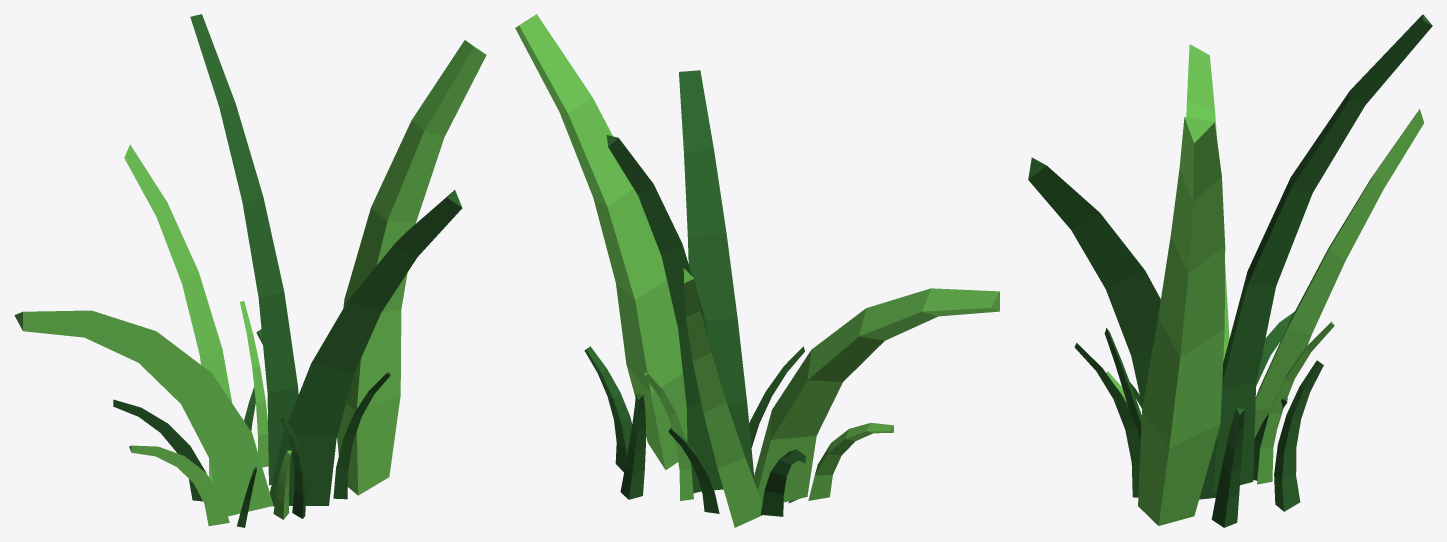
The model's file is Cesped2.fbx.
3 renders of one model, left to right at view 1: azimuth 30°, elevation 25°; view 2: azimuth 150°, elevation 25°; view 3: azimuth 270°, elevation 25°, orthographic. The views are drawn at different scales.
Visible parts, largest first — view 1: Cesped1; view 2: Cesped1; view 3: Cesped1.
Part boxes in pixels (x1=…): Cesped1: x1=14, y1=14, x2=486, y2=527; Cesped1: x1=515, y1=14, x2=999, y2=527; Cesped1: x1=1028, y1=14, x2=1432, y2=527.
Bounding box in the file's own units: 197 × 171 × 127.
